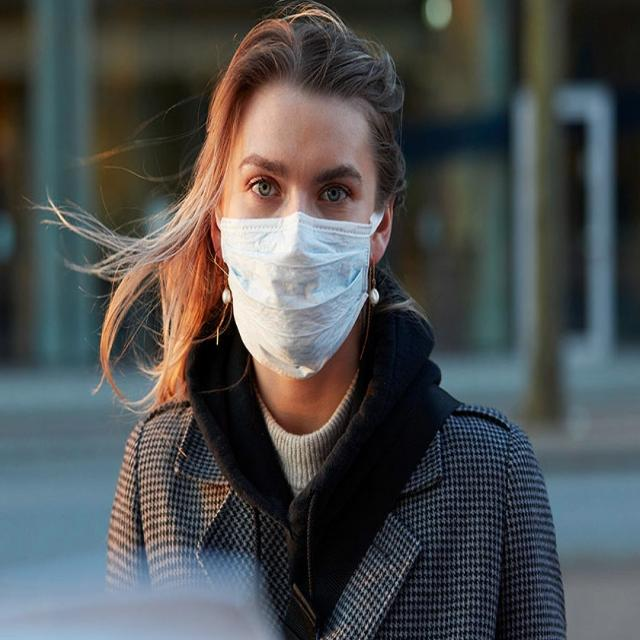adult: (107, 13, 567, 640)
